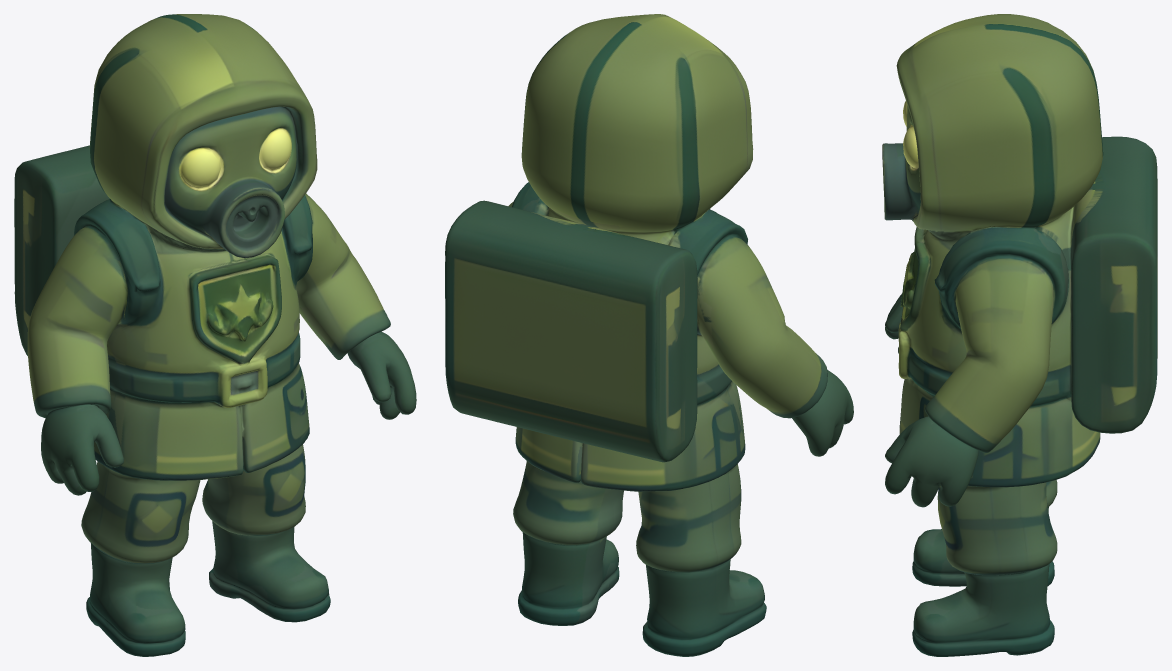
Rendered from SegundoPersonaje.fbx.
The picture shows the model from 3 angles, left to right: view 1: azimuth 30°, elevation 25°; view 2: azimuth 150°, elevation 25°; view 3: azimuth 270°, elevation 25°; orthographic projection.
Parts seen in each view (by area): view 1: model_LOD0; view 2: model_LOD0; view 3: model_LOD0.
Boxes of the visible parts, x1=… form: model_LOD0: x1=14, y1=14, x2=416, y2=656; model_LOD0: x1=445, y1=14, x2=853, y2=656; model_LOD0: x1=882, y1=14, x2=1157, y2=656.
Bounding box in the file's own units: 111 × 176 × 75.01.
